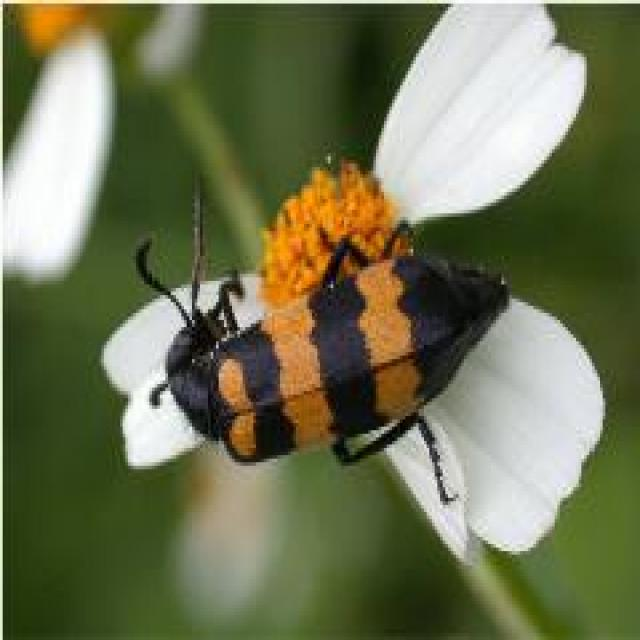BlisterBeetle-Adult-: (117, 156, 516, 522)
